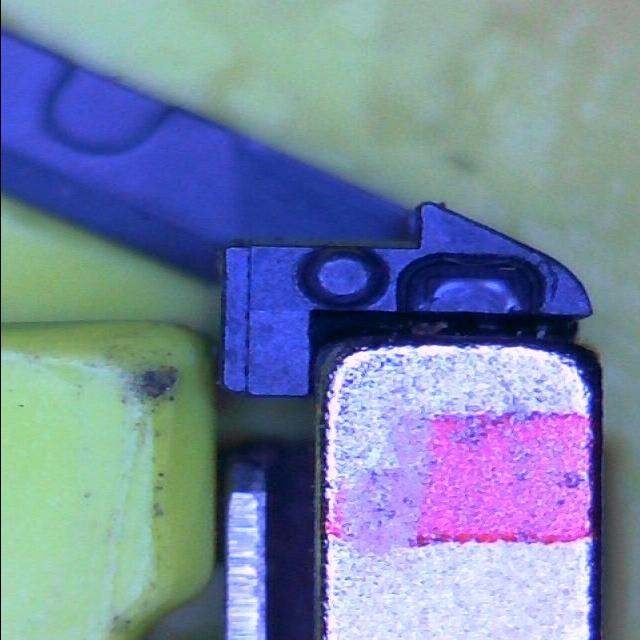lacking: (393, 252, 544, 322)
